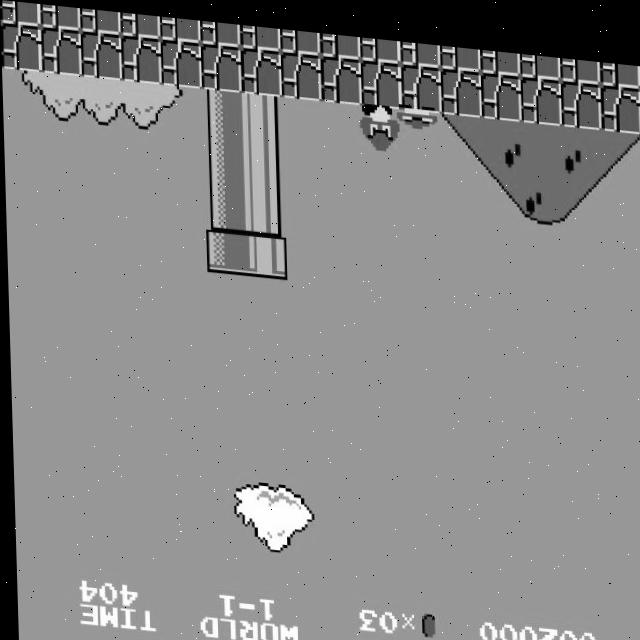14- pipe: (202, 130, 244, 180), (242, 134, 284, 183), (241, 88, 283, 137), (201, 85, 243, 134), (243, 180, 285, 228), (203, 177, 245, 225)
15- pipe_head: (244, 225, 286, 274), (204, 222, 246, 271)
17- undestructible_block: (560, 68, 602, 118), (440, 58, 482, 108), (280, 45, 322, 95), (120, 32, 162, 82), (520, 65, 562, 114), (480, 62, 522, 111), (400, 55, 442, 104), (360, 52, 402, 101), (320, 49, 362, 98), (240, 42, 282, 91), (200, 39, 242, 88), (160, 36, 202, 85), (80, 29, 122, 78), (40, 26, 82, 75), (1, 23, 43, 72), (601, 72, 640, 121), (520, 42, 561, 69), (360, 29, 401, 56), (200, 16, 241, 43), (80, 6, 121, 33), (40, 3, 81, 30), (560, 46, 601, 72), (480, 39, 521, 65), (440, 36, 481, 62), (400, 33, 441, 59), (320, 26, 361, 52), (280, 23, 321, 49), (240, 20, 281, 46), (160, 13, 201, 39), (120, 10, 161, 36), (0, 1, 42, 26), (600, 50, 640, 75)
8- goomba: (359, 95, 403, 147)
